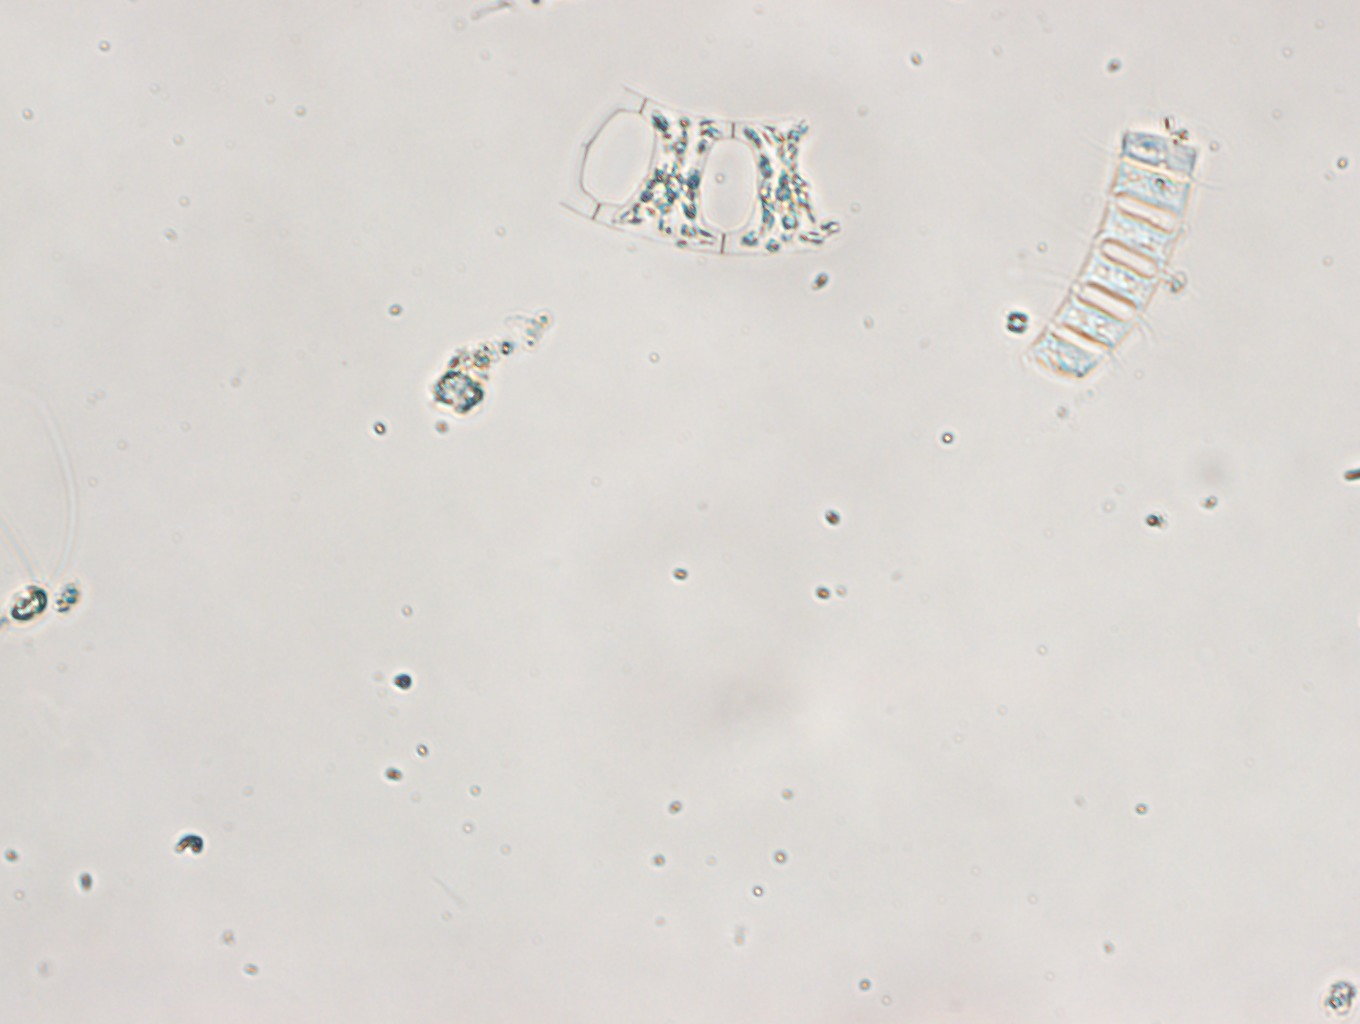chaetoceros: (1011, 126, 1230, 392)
eucampia: (559, 80, 850, 260)
